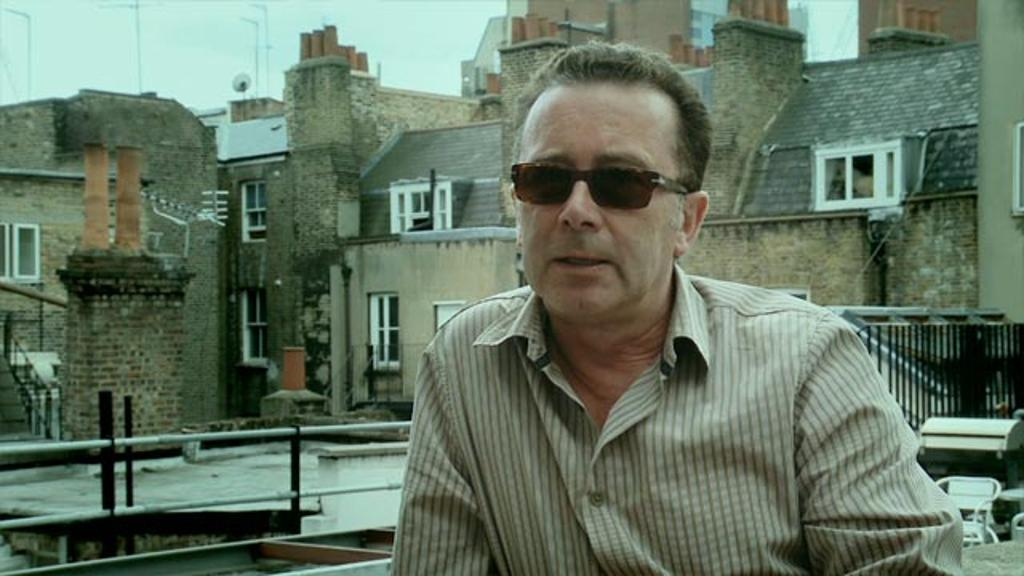face: (518, 82, 674, 318)
